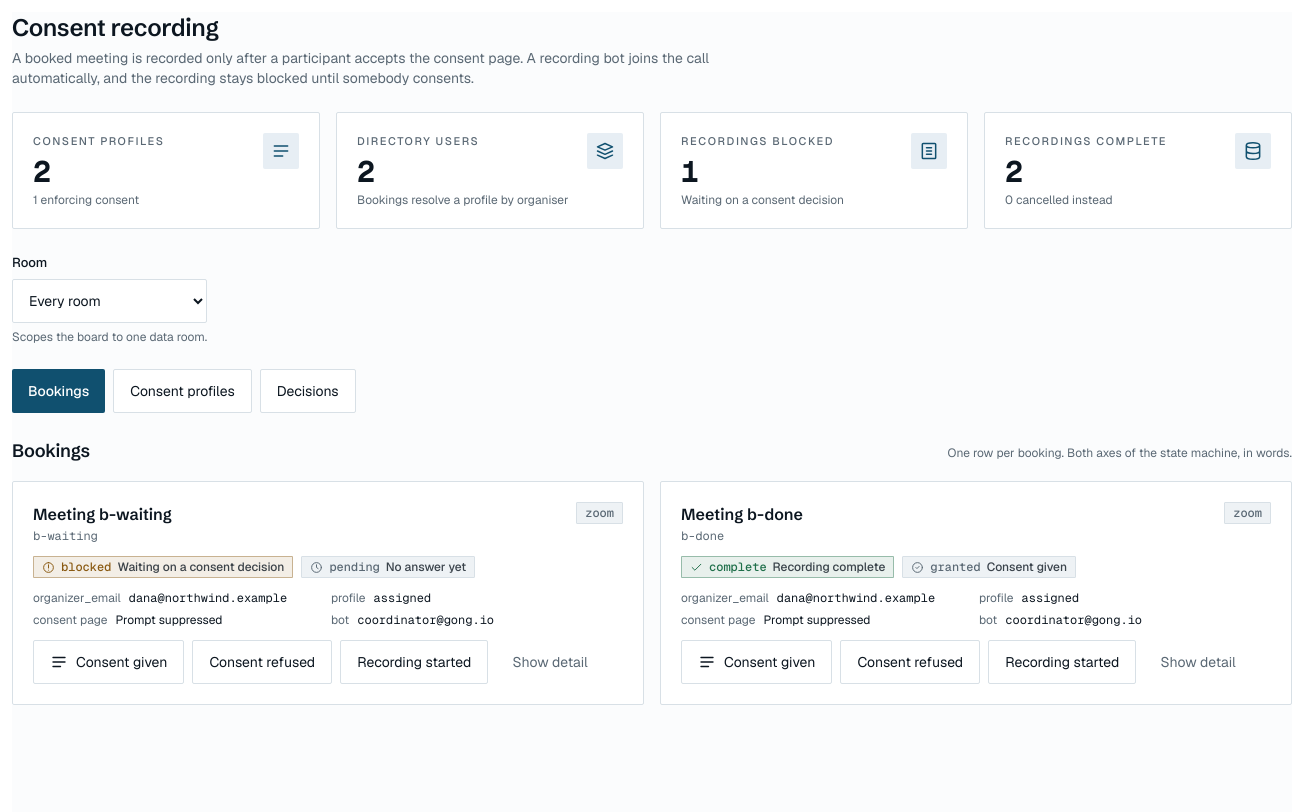
a refused step › reports the step that is available instead of only that this one is not
Check: the heading "Consent recording" is shown, box [12,13,219,42]
Check: the text "b-waiting" is shown, box [33,528,98,544]
Click the button "Recording started" below "pending" at point(414, 662), box [340,640,488,684]
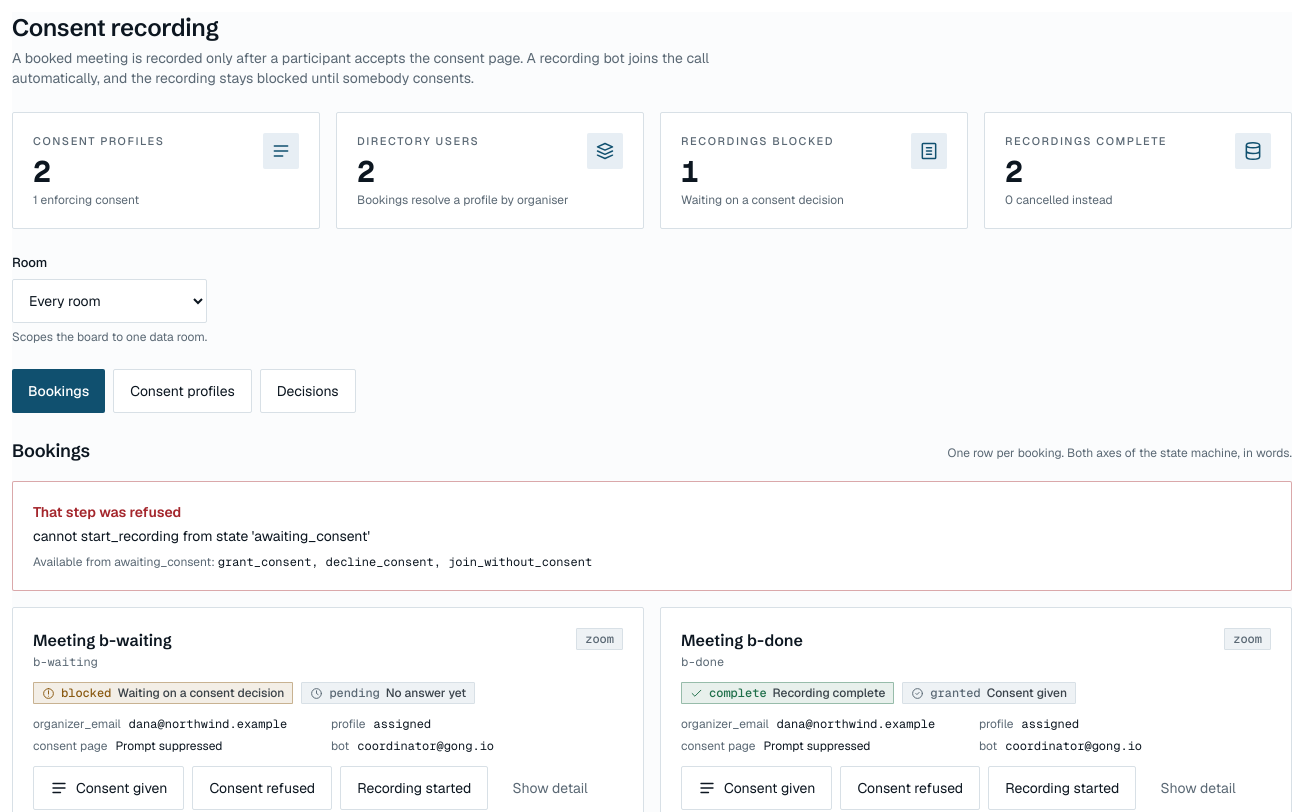
Check: the text "That step was refused" is shown, box [33,503,181,521]
Check: the text "cannot start_recording from state 'awaiting_consent'" is shown, box [33,527,370,545]
Check: the text "grant_consent, decline_consent, join_without_consent" is shown, box [218,554,592,570]
